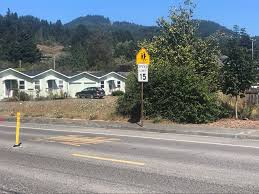pedestrianCrossing: (136, 45, 151, 63)
speedLimit15: (137, 63, 149, 81)
